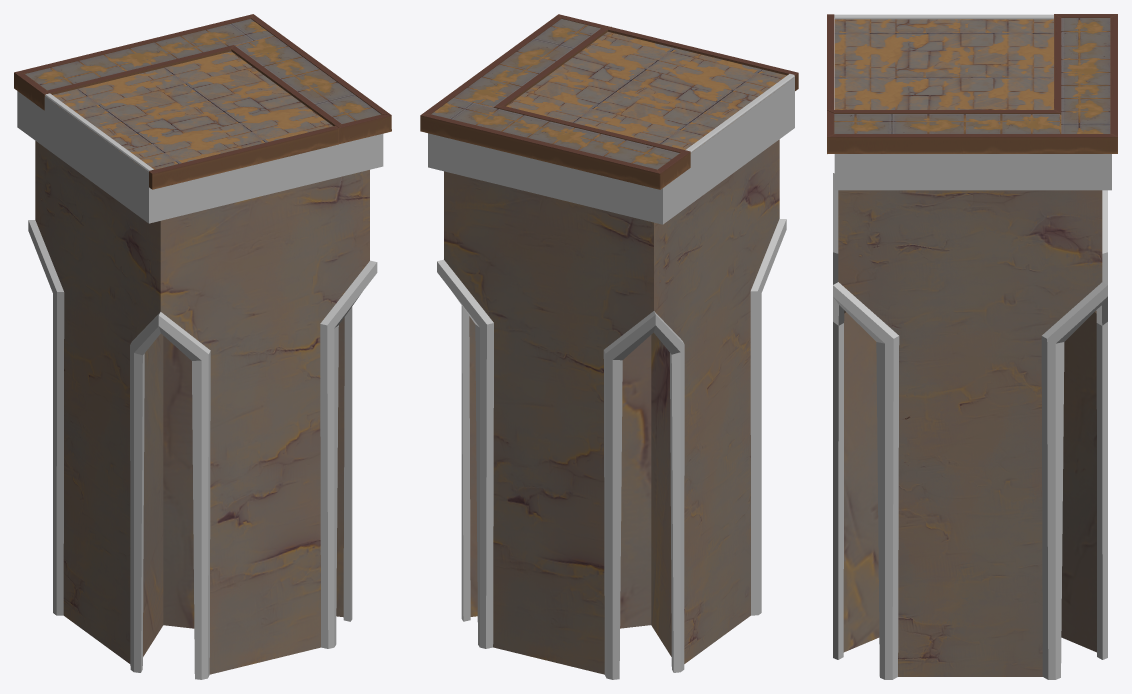
File: prop_Platform_Square_CornerPlain.fbx
3 views of the same model, side by side, from view 1: azimuth 30°, elevation 25°; view 2: azimuth 150°, elevation 25°; view 3: azimuth 270°, elevation 25° (orthographic). The views are drawn at different scales.
Parts seen in each view (by area): view 1: prop_Platform_Square_CornerPlain; view 2: prop_Platform_Square_CornerPlain; view 3: prop_Platform_Square_CornerPlain.
Part boxes in pixels (x1,y1,x2,y2): prop_Platform_Square_CornerPlain: (14, 14, 391, 679); prop_Platform_Square_CornerPlain: (420, 14, 798, 679); prop_Platform_Square_CornerPlain: (827, 14, 1117, 679).
Bounding box in the file's own units: 873 × 1815 × 872.
